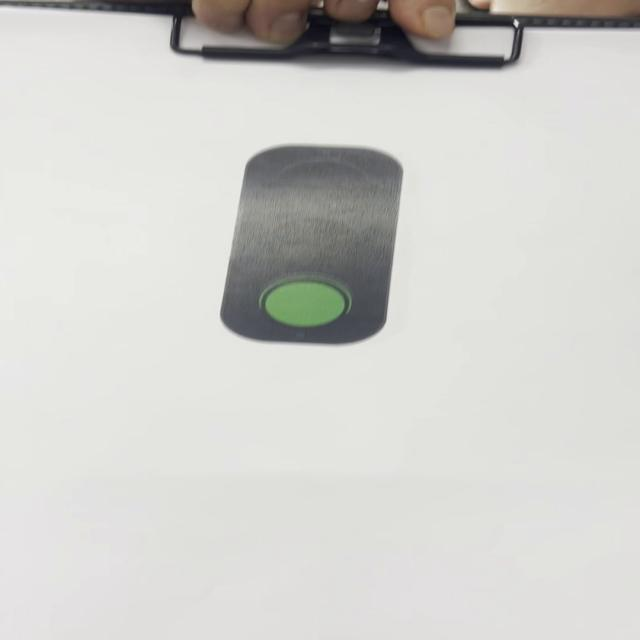green: (218, 141, 403, 349)
